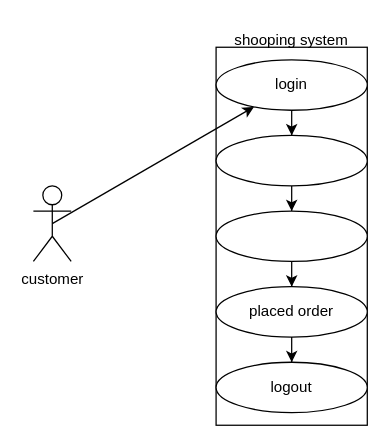
The diagram is 389 pixels wide and 447 high, and some of its shapes have lost their labels. The centre of each missing label's shape, as x and y in pixels:
add to card: (291,235)
viaw product: (291,160)
